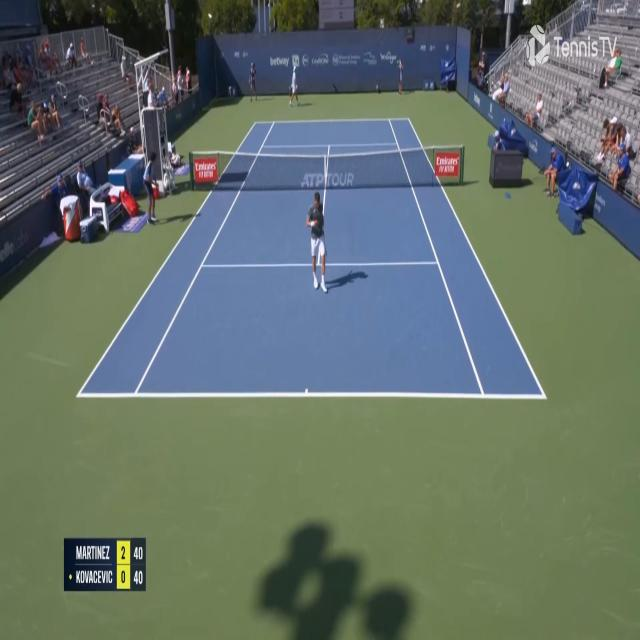tennis-player: (306, 188, 330, 294), (287, 62, 300, 106)
